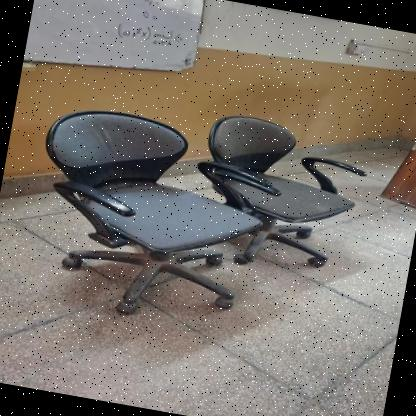chair: (14, 96, 286, 331), (182, 103, 370, 276)
